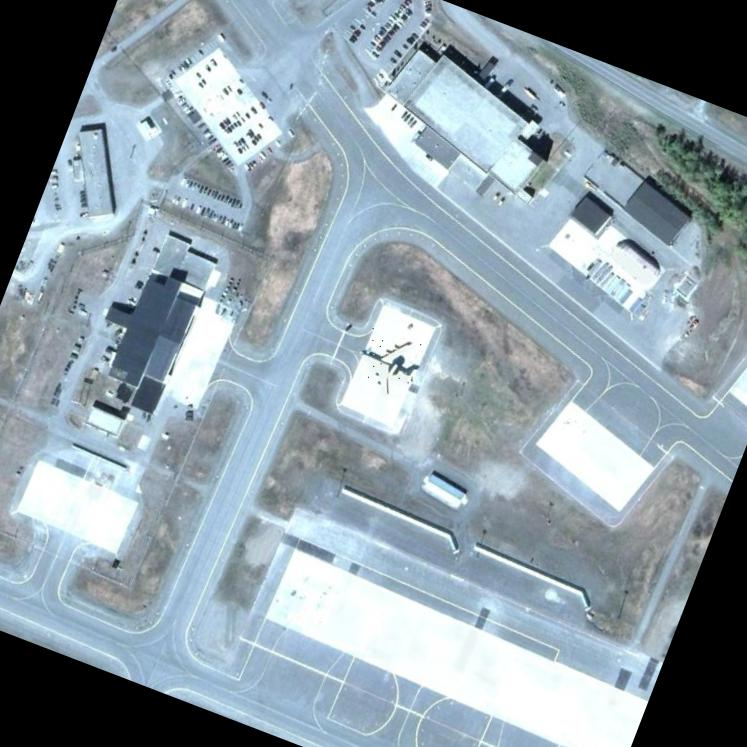A7: (352, 325, 428, 403)
